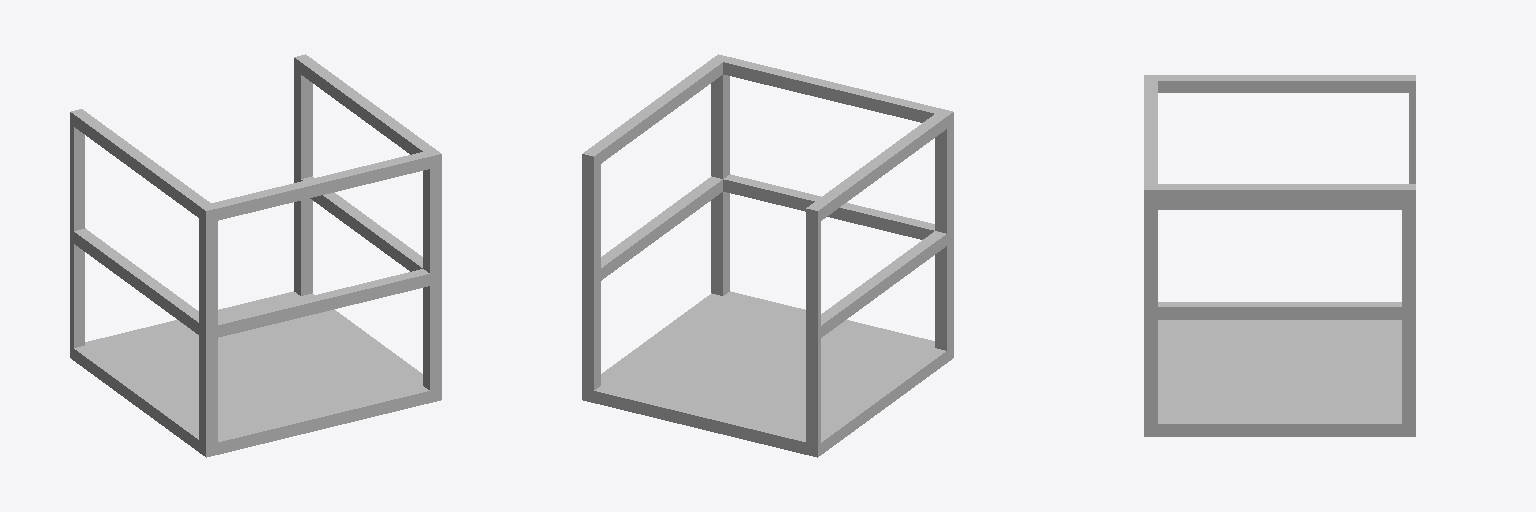
The model's file is platform U.obj.
3 views of the same model, side by side, from view 1: azimuth 30°, elevation 25°; view 2: azimuth 150°, elevation 25°; view 3: azimuth 270°, elevation 25° (orthographic).
Parts seen in each view (by area): view 1: object 1; view 2: object 1; view 3: object 1.
Part boxes in pixels (x1,y1,x2,y2): object 1: (70, 54, 441, 457); object 1: (582, 54, 953, 457); object 1: (1144, 75, 1415, 436).
Bounding box in the file's own units: 4 × 4 × 4.